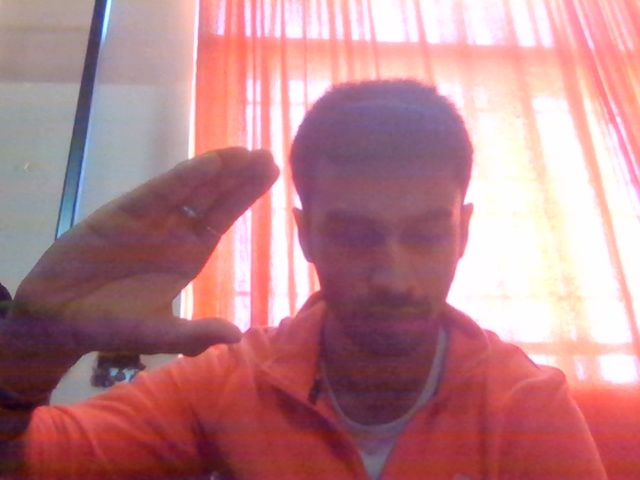C: (22, 135, 307, 414)
